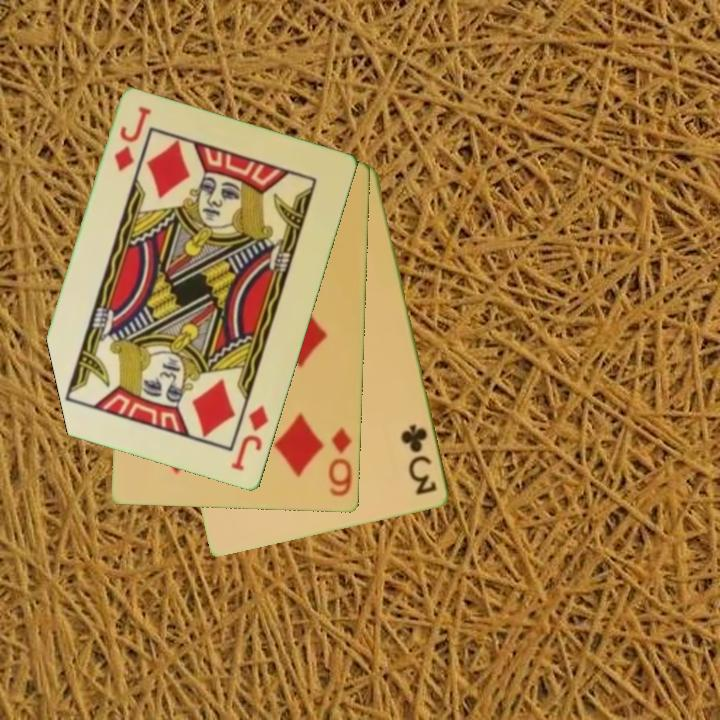3c: (397, 420, 440, 498)
6d: (325, 424, 355, 500)
Jd: (227, 402, 272, 475), (111, 103, 155, 175)
